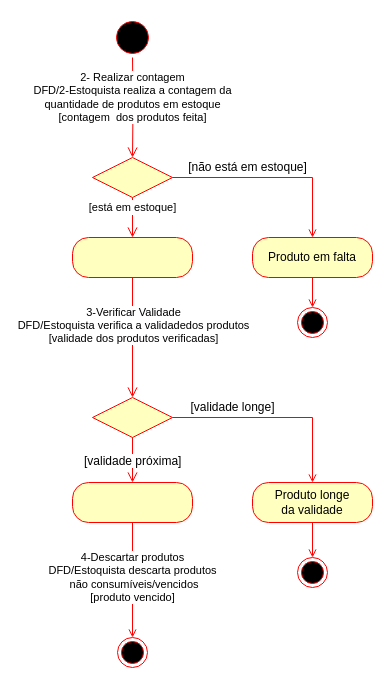
The diagram is 390 pixels wide and 685 high, and some of its shapes have lost their labels. Here are the shapes that lost their labels. From the top down, the centre of each, then its label:
(132,257): Produto em estoque
(132,502): Produto próximo da validade
